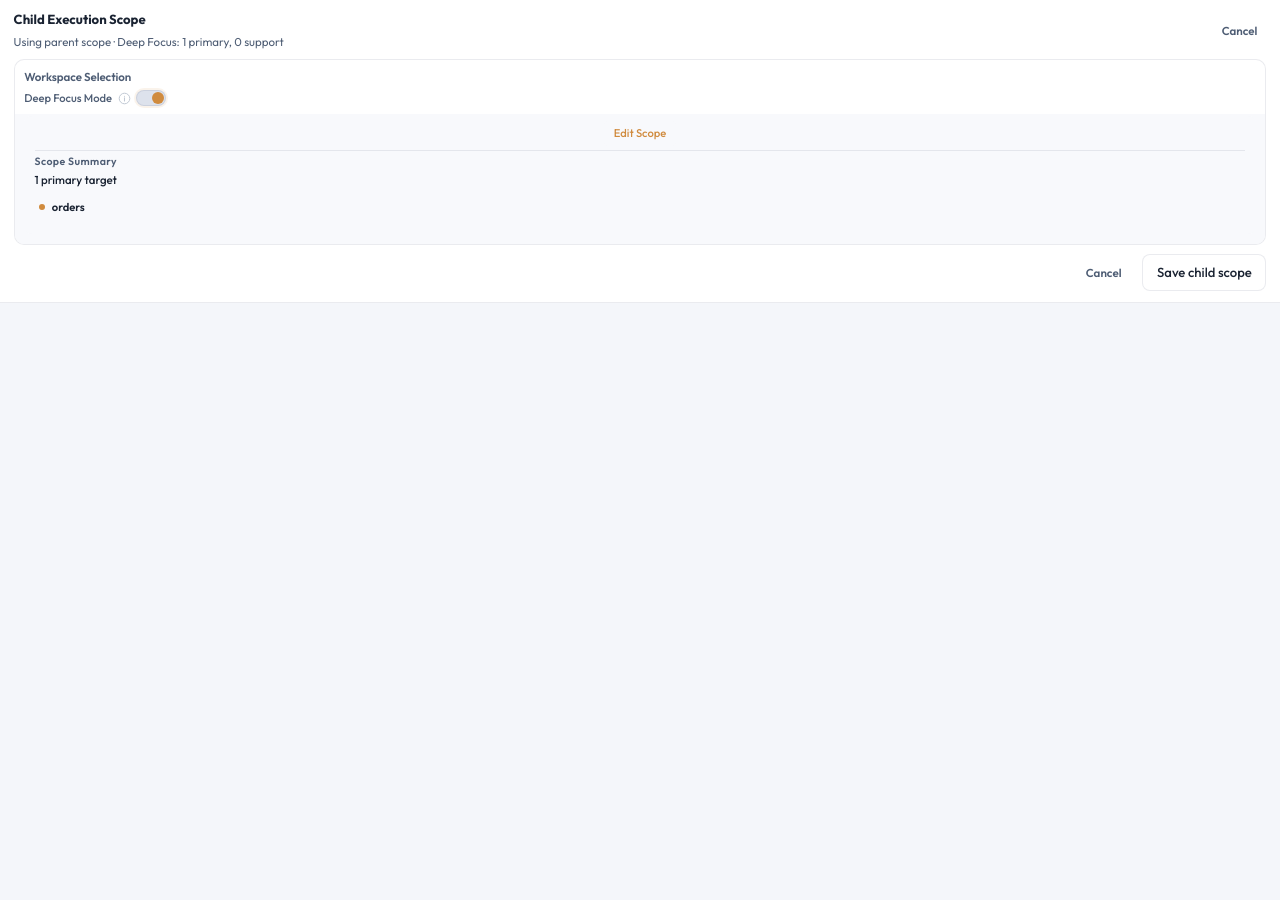
Test: ChildScopeOverridePanel › opens the Deep Focus editor with controlled panel state
Click the button "Edit Scope": (640, 134) [604,121,676,146]
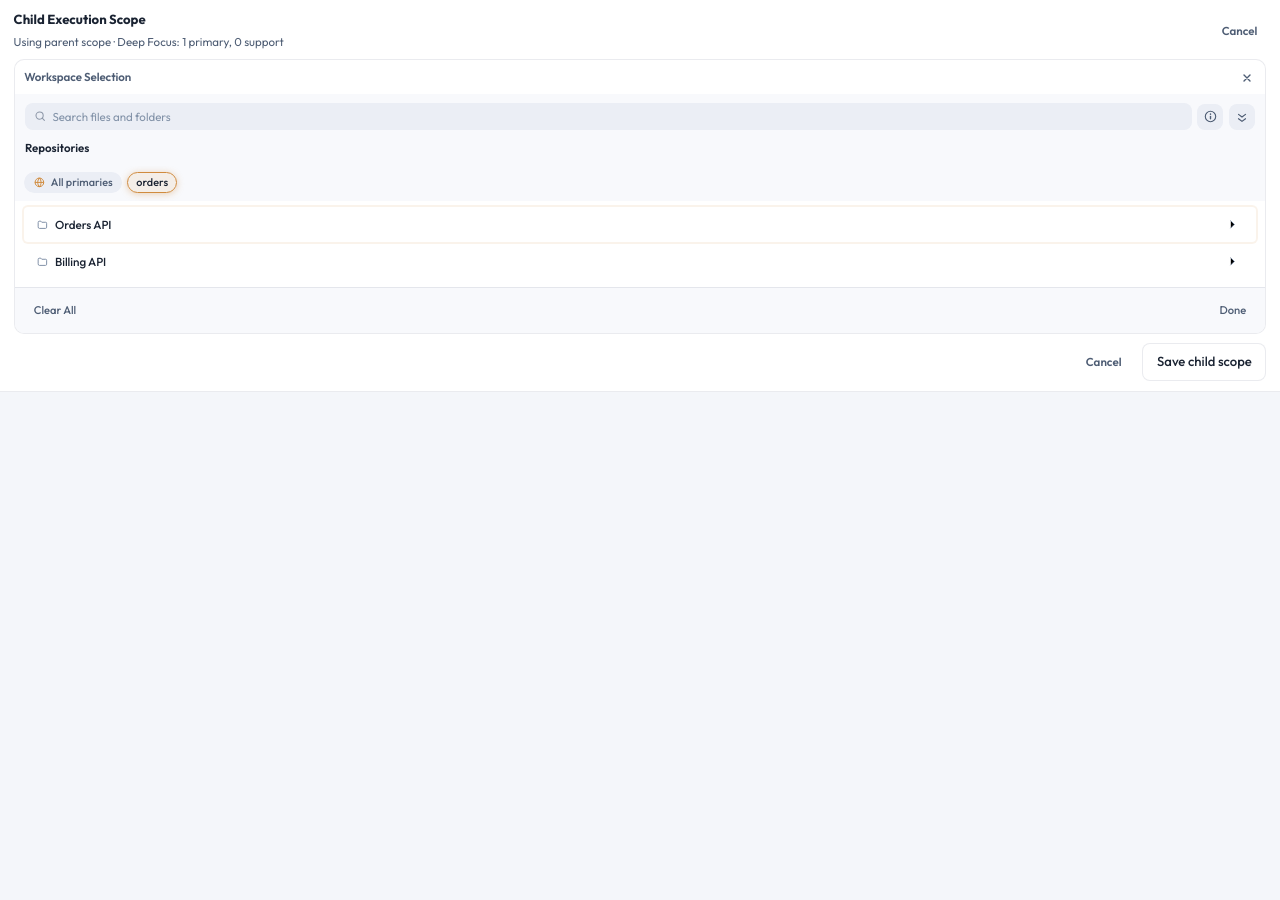
Result: the element with test id "deep-focus-editor" that starts with "Workspace Selection" is shown at [14,59,1266,334]
